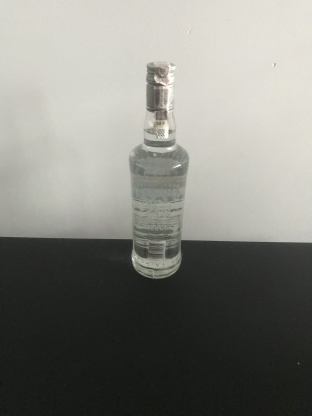nakretka: (144, 59, 177, 113)
